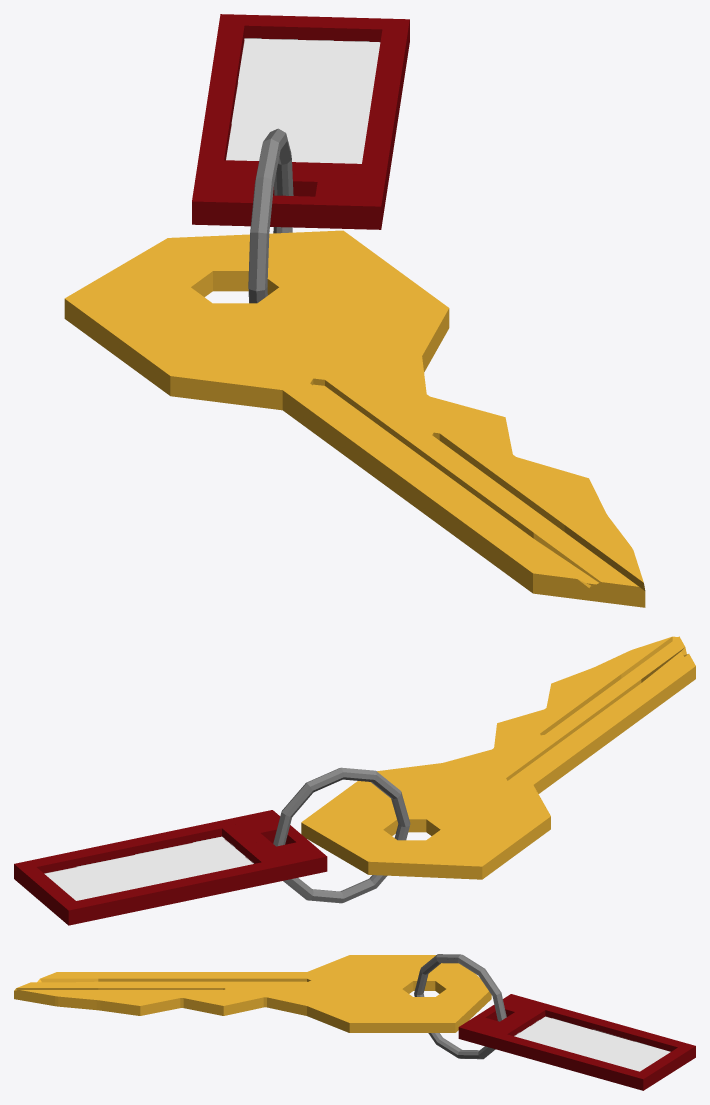
Rendered from Key 1.fbx.
The picture shows the model from 3 angles, top to bottom: view 1: azimuth 30°, elevation 25°; view 2: azimuth 150°, elevation 25°; view 3: azimuth 270°, elevation 25°; orthographic projection. The views are drawn at different scales.
Parts seen in each view (by area): view 1: Key 1; view 2: Key 1; view 3: Key 1.
Part boxes in pixels (left/top/right/bottom): Key 1: left=64, top=14, right=645, bottom=607; Key 1: left=14, top=636, right=695, bottom=925; Key 1: left=14, top=954, right=695, bottom=1090.
Bounding box in the file's own units: 11.13 × 4.16 × 24.65.
Materials: 1 (1 with a texture image).
